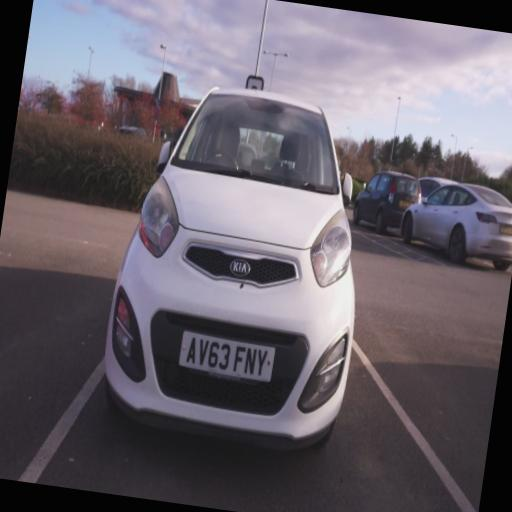numberplates: (179, 332, 275, 382), (500, 226, 511, 235), (400, 201, 411, 208)
